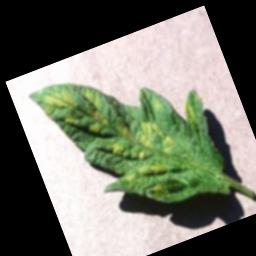Leaf_Mold: (27, 35, 237, 247)
